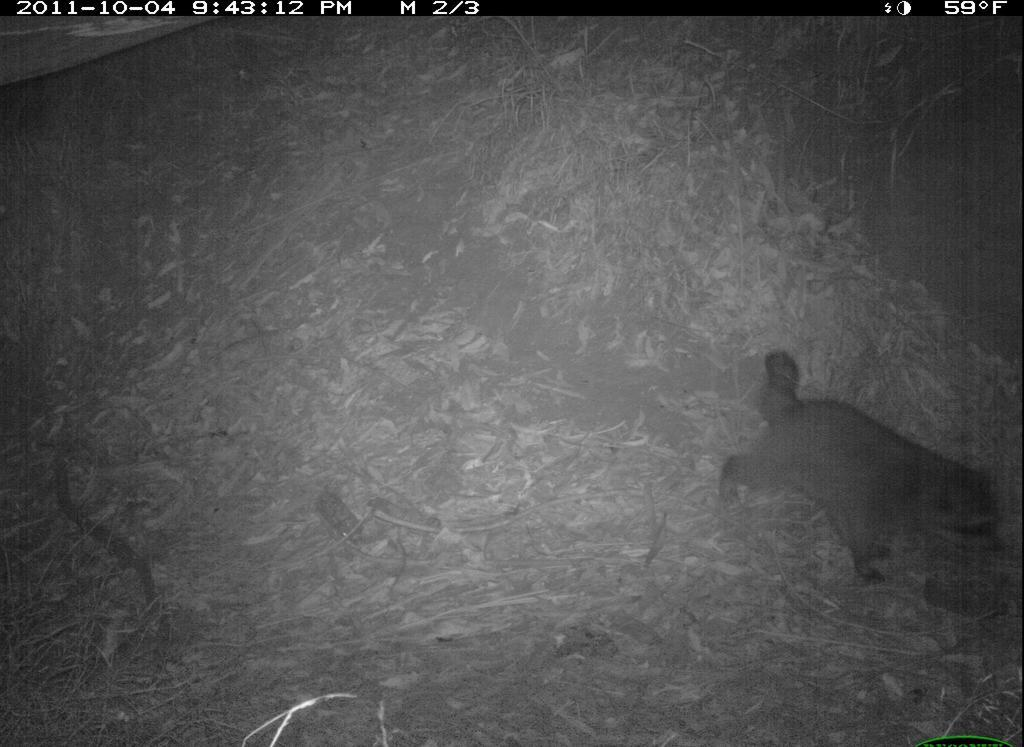raccoon: (710, 341, 1017, 594)
